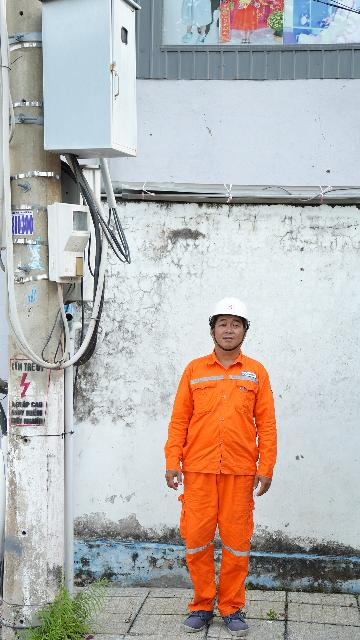helmet: (203, 292, 262, 329)
shoes: (178, 601, 218, 640), (218, 603, 256, 635)
